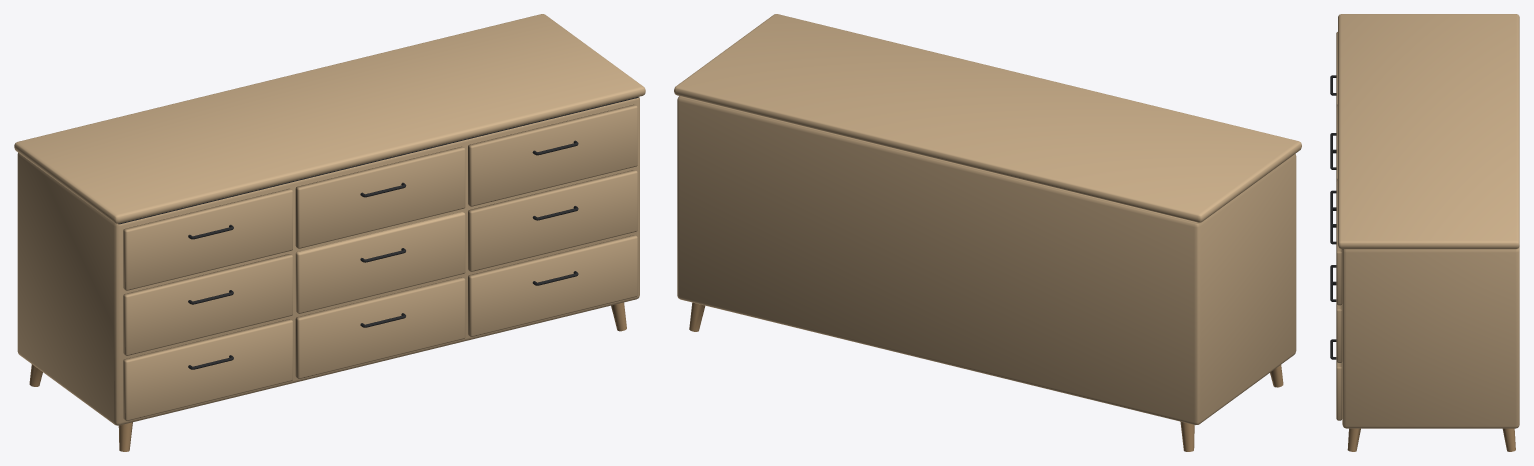
File: dresserLow.glb
3 renders of one model, left to right at view 1: azimuth 30°, elevation 25°; view 2: azimuth 150°, elevation 25°; view 3: azimuth 270°, elevation 25°, orthographic. The views are drawn at different scales.
Visible parts, largest first — view 1: dresserLow, drawer; view 2: dresserLow; view 3: dresserLow.
Boxes of the visible parts, x1,y1,x2,y2 form: dresserLow: (14, 14, 645, 451); drawer: (295, 212, 465, 313); dresserLow: (674, 14, 1301, 451); dresserLow: (1330, 14, 1519, 451).
Bounding box in the file's own units: 1.82 × 0.8006 × 0.636.
